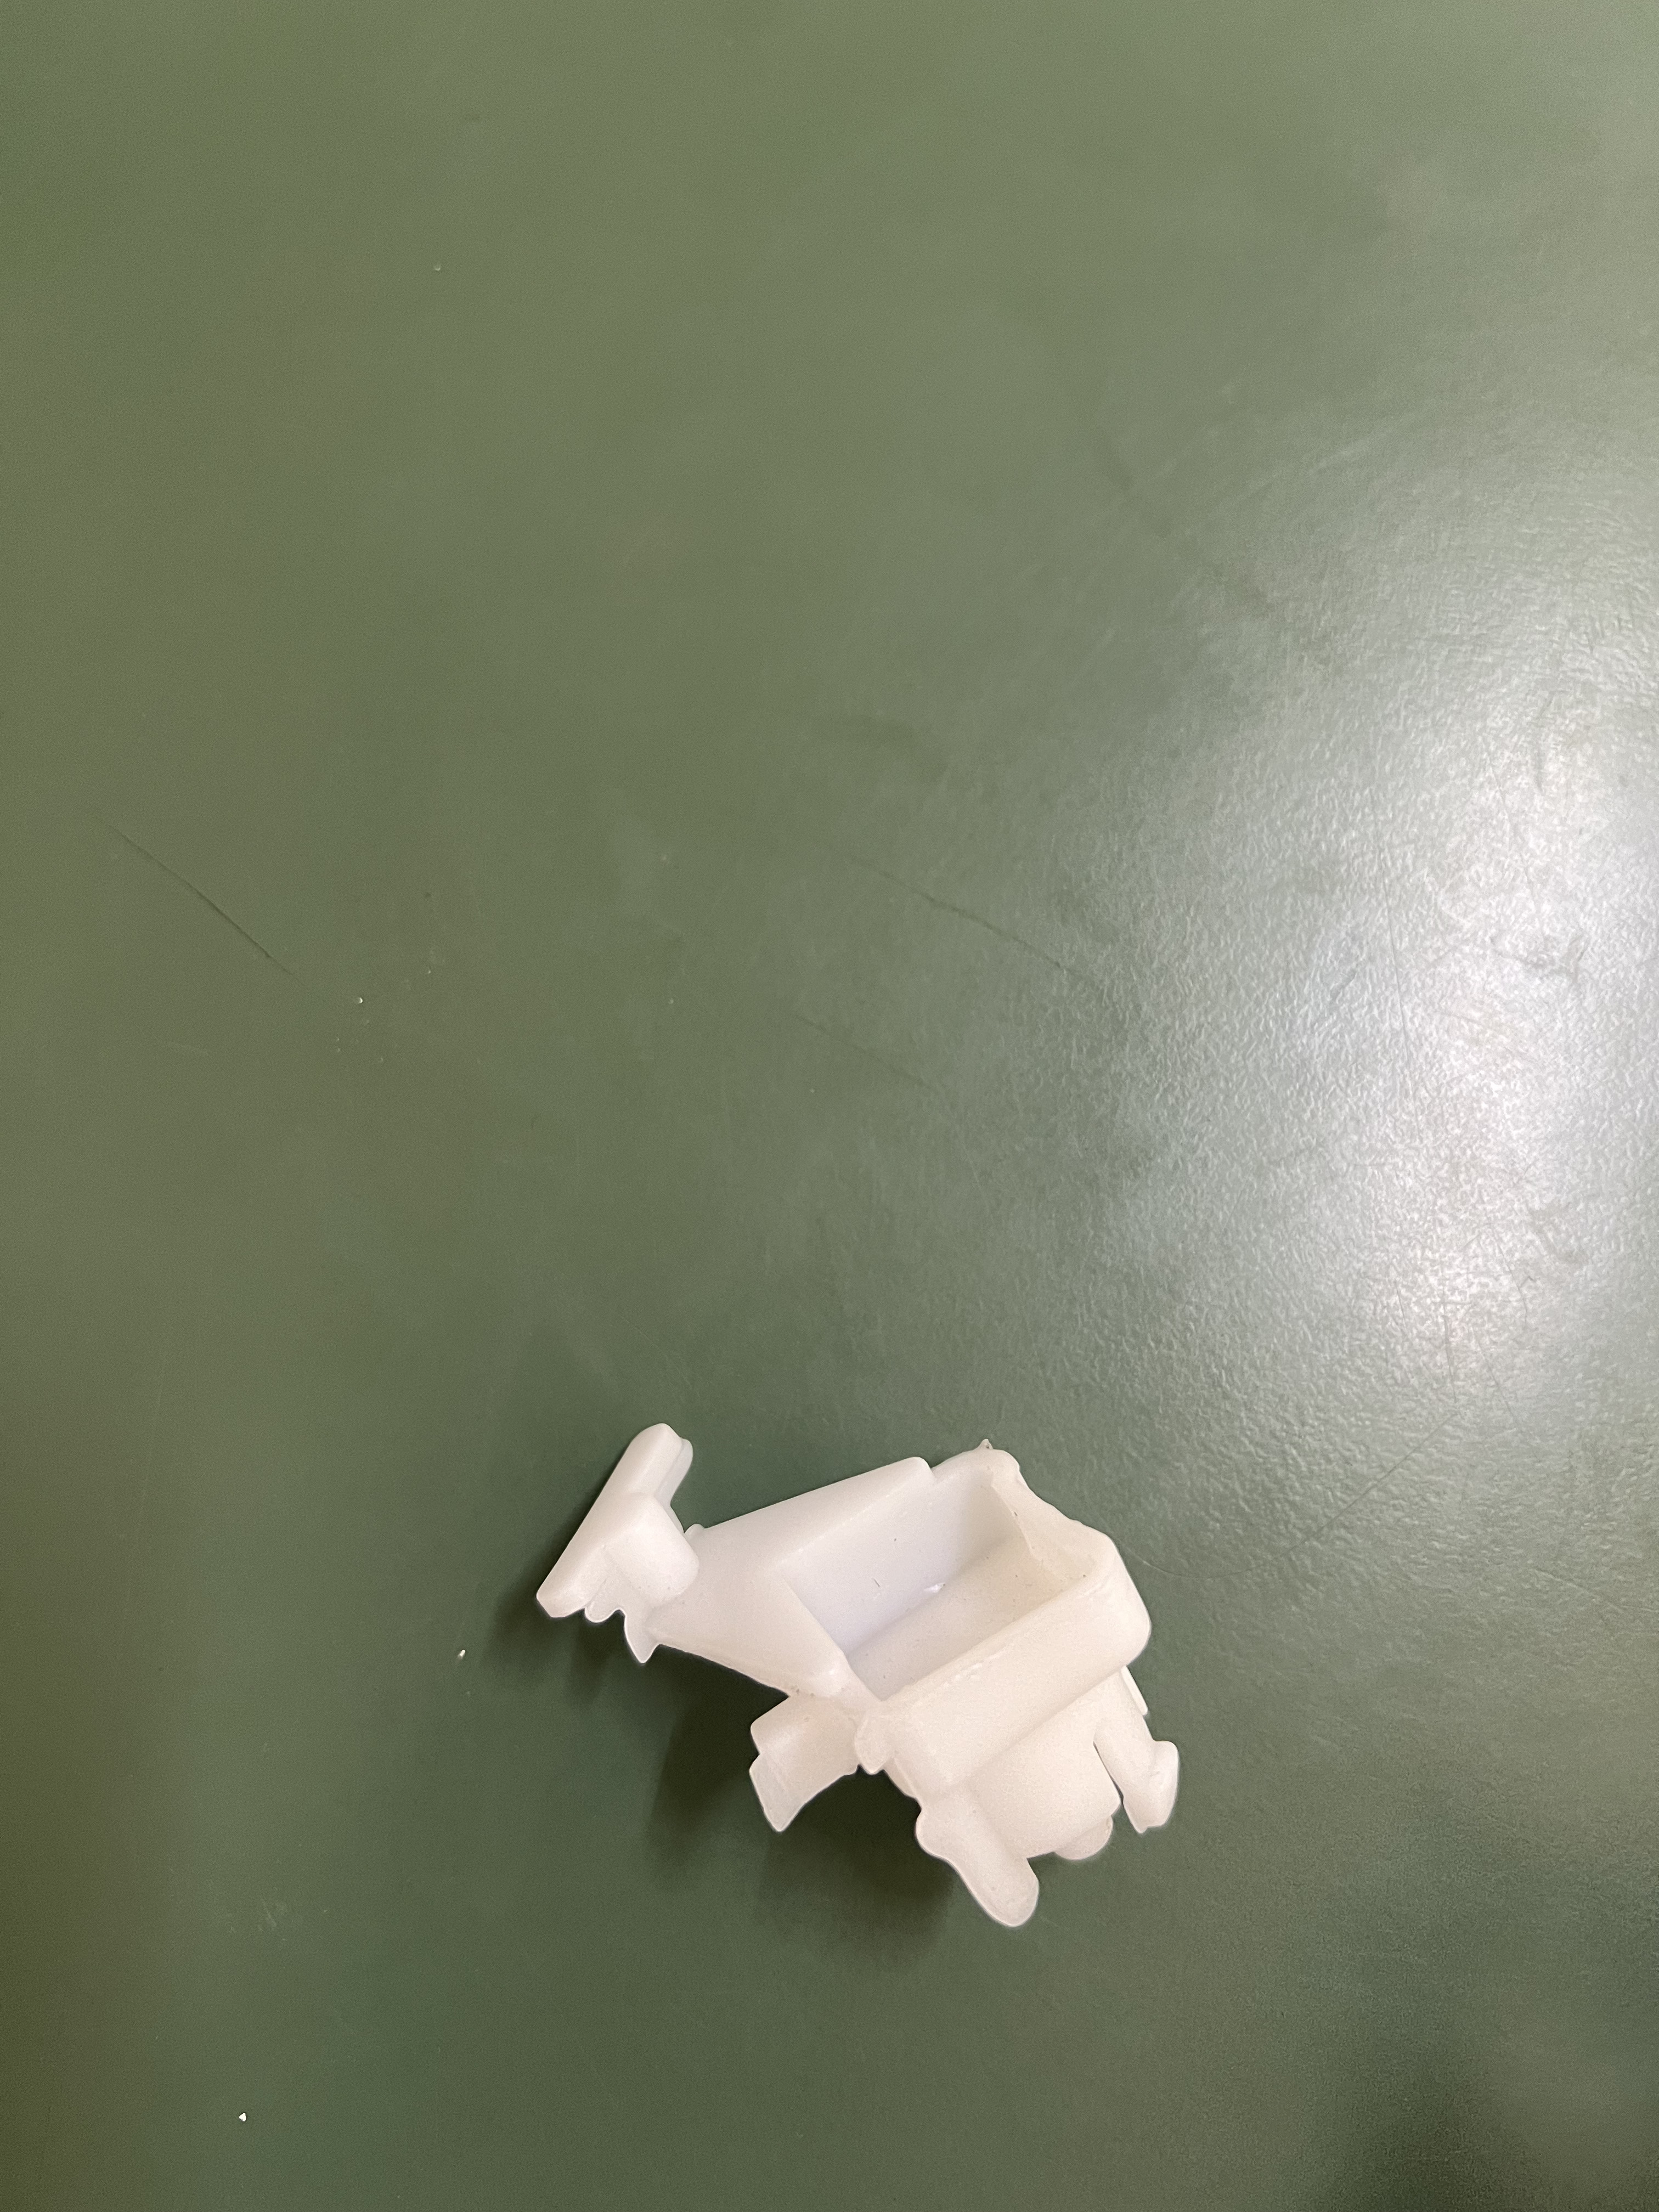drain_lever: (455, 1379, 1213, 1916)
